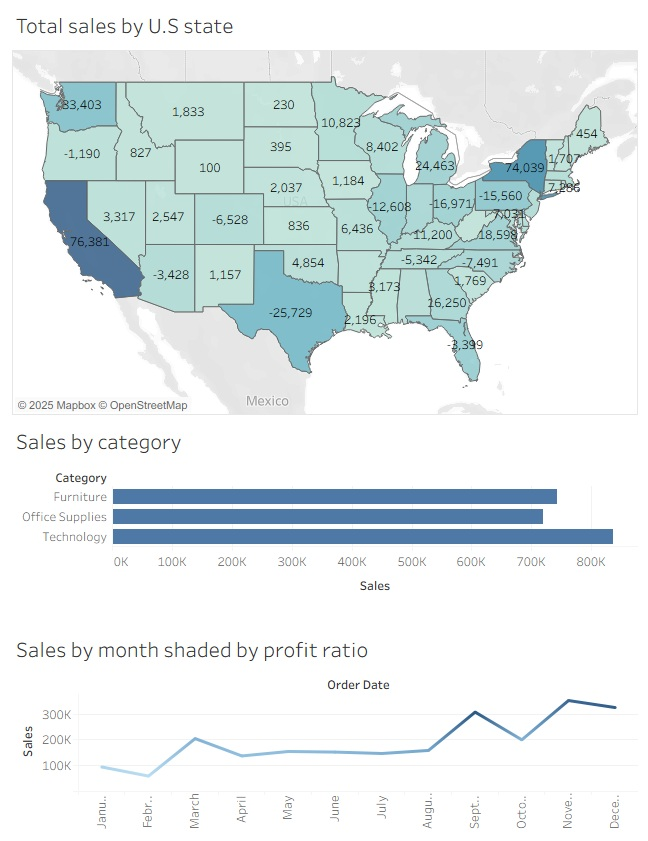

What the dashboard file says about the page in this screenshot:
{"tool":"tableau","page":{"name":"Dashboard 1","canvas":[650,860],"ordinal":0},"visuals":[{"type":"worksheet","title":"Sheet 2","mark":"Automatic","box":[8,8.1,634,421.9]},{"type":"worksheet","title":"Sheet 1","mark":"Automatic","rows":["Category"],"cols":["Sales"],"box":[8,430,634,210.9]},{"type":"worksheet","title":"Sheet 3","mark":"Automatic","rows":["Sales"],"cols":["Order Date"],"box":[8,640.9,634,210.9]}]}

Visuals, with their boxes in screenshot pixels (x1, y1, x2, y2), scaled from the page's 650x860 canvas onto the 648x841 screenshot:
"Sheet 2" worksheet: [x1=8, y1=8, x2=640, y2=420]
"Sheet 1" worksheet: [x1=8, y1=420, x2=640, y2=627]
"Sheet 3" worksheet: [x1=8, y1=627, x2=640, y2=833]
